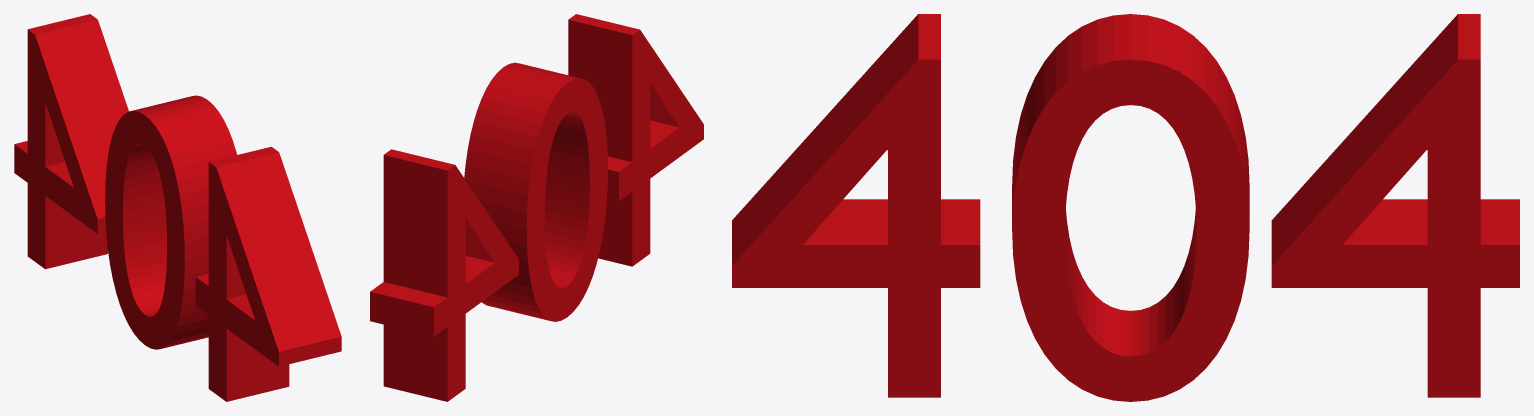
The picture shows the model from 3 angles, left to right: view 1: azimuth 30°, elevation 25°; view 2: azimuth 150°, elevation 25°; view 3: azimuth 270°, elevation 25°; orthographic projection. The views are drawn at different scales.
Parts seen in each view (by area): view 1: Text; view 2: Text; view 3: Text.
Boxes of the visible parts, box(x1,y1,x2,y2) form: Text: box(14, 14, 341, 401); Text: box(370, 14, 703, 401); Text: box(732, 14, 1519, 401).
Size of the model in its own units: 0.2 by 0.7 by 1.46.
